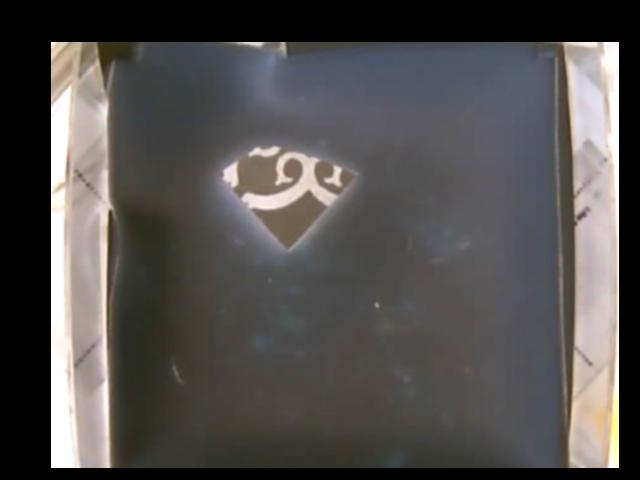China: (221, 140, 357, 249)
